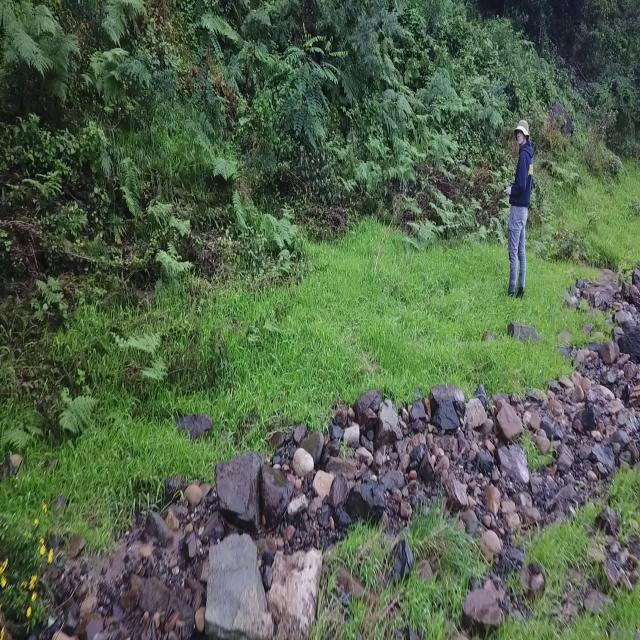Mysore-Thorn-Weed: (276, 50, 338, 153)
